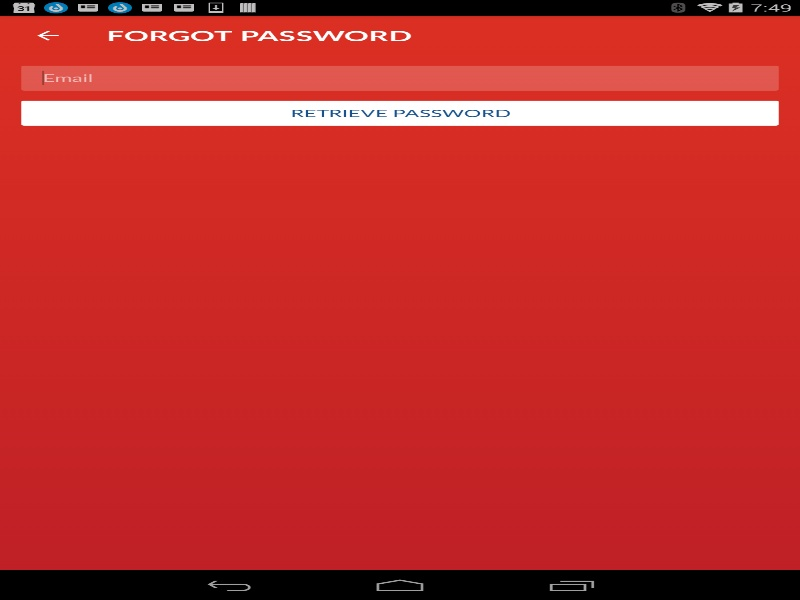Button: (21, 100, 778, 125), (10, 15, 85, 55)
Input: (21, 65, 778, 90)
